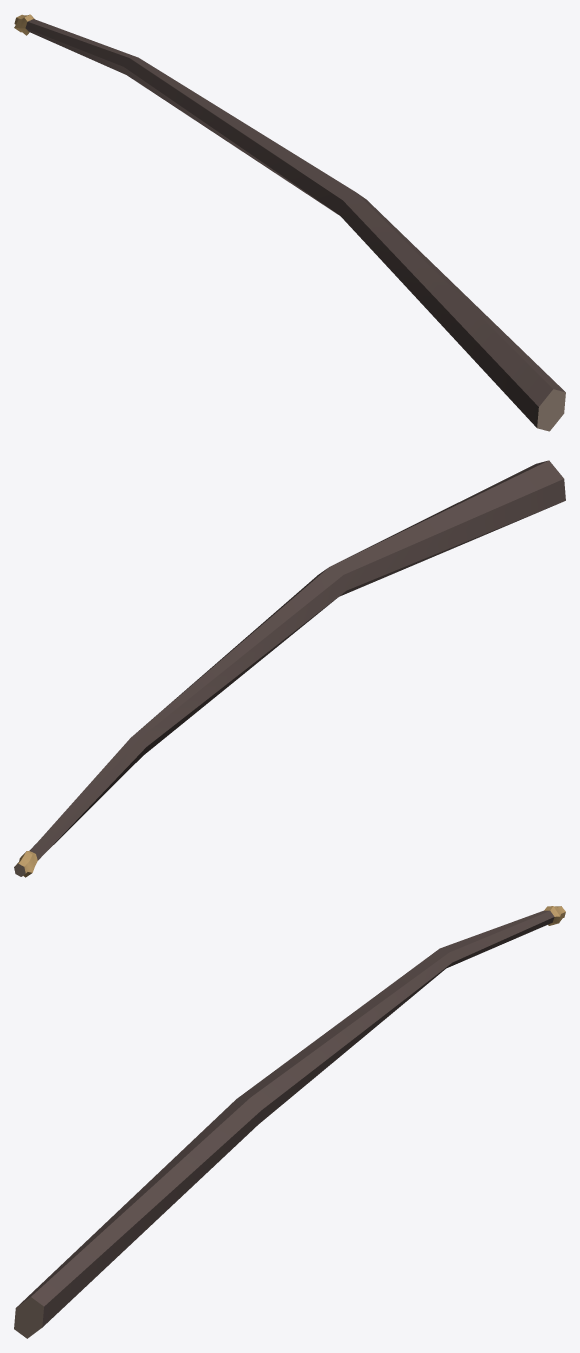
Rendered from fishing_rod.glb.
3 renders of one model, top to bottom at view 1: azimuth 30°, elevation 25°; view 2: azimuth 150°, elevation 25°; view 3: azimuth 330°, elevation 25°, orthographic. The views are drawn at different scales.
Visible parts, largest first — view 1: fishing_rod_0; view 2: fishing_rod_0; view 3: fishing_rod_0.
Part boxes in pixels (box(x1,y1,x2,y2)): fishing_rod_0: box(14, 14, 565, 431); fishing_rod_0: box(14, 460, 565, 877); fishing_rod_0: box(14, 906, 565, 1338).
Bounding box in the file's own units: 0.0624 × 0.1359 × 1.49.
Materials: 1 (1 with a texture image).
